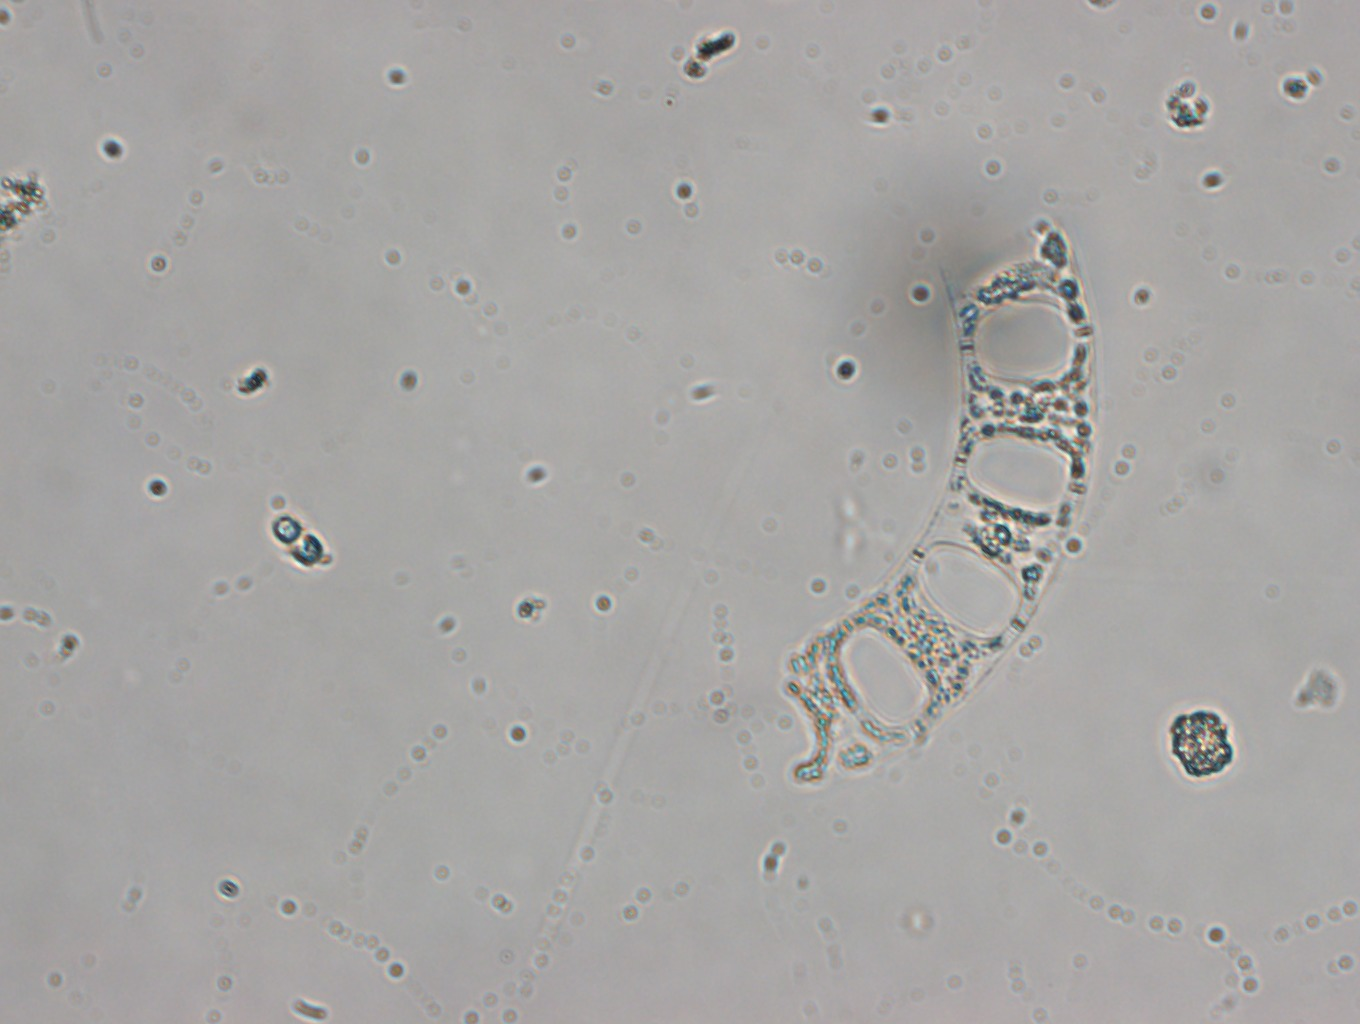eucampia: (781, 214, 1096, 786)
